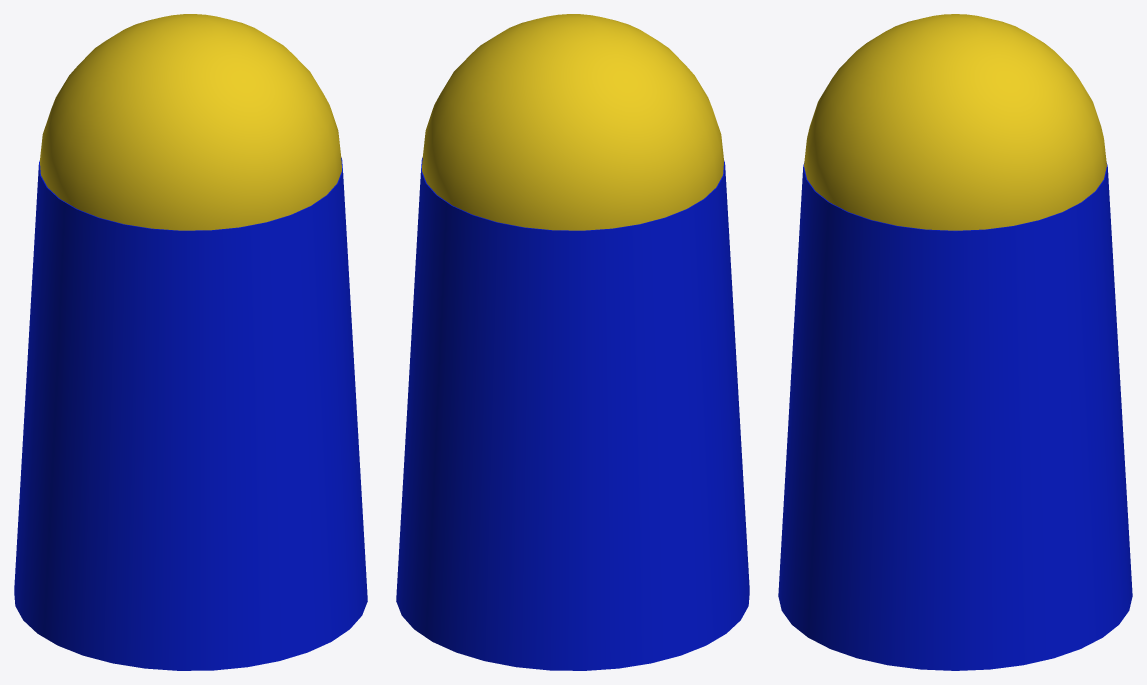
File: Stop pillar.fbx
3 renders of one model, left to right at view 1: azimuth 30°, elevation 25°; view 2: azimuth 150°, elevation 25°; view 3: azimuth 270°, elevation 25°, orthographic.
Visible parts, largest first — view 1: stop wall; view 2: stop wall; view 3: stop wall.
Boxes of the visible parts, bbox=[...] form: stop wall: bbox=[14, 14, 367, 670]; stop wall: bbox=[396, 14, 749, 670]; stop wall: bbox=[778, 14, 1132, 670].
Size of the model in its own units: 37.99 by 67.21 by 37.99.
